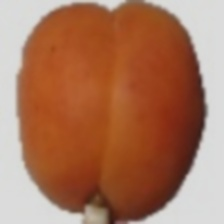apricot: (34, 22, 184, 159)
